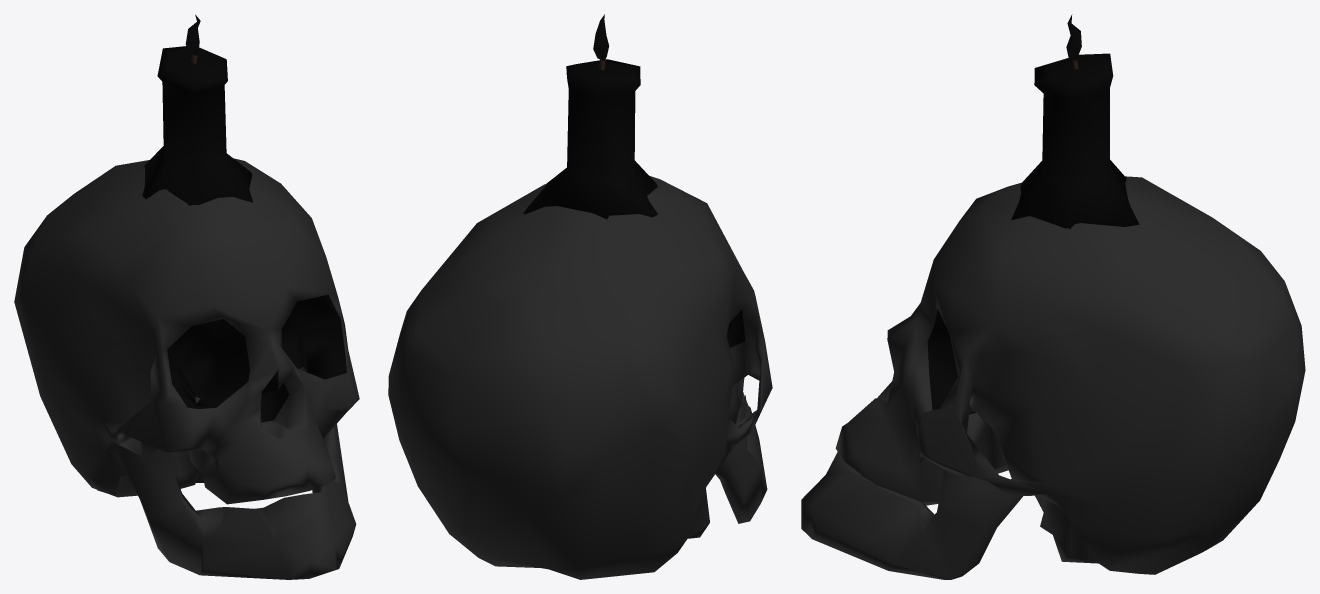
Rendered from CandleSkullShapeB.021.glb.
The picture shows the model from 3 angles, left to right: view 1: azimuth 30°, elevation 25°; view 2: azimuth 150°, elevation 25°; view 3: azimuth 270°, elevation 25°; orthographic projection. The views are drawn at different scales.
Visible parts, largest first — view 1: CandleSkullShapeB.021; view 2: CandleSkullShapeB.021; view 3: CandleSkullShapeB.021.
Part boxes in pixels (box(x1,y1,x2,y2)): CandleSkullShapeB.021: box(14, 14, 359, 579); CandleSkullShapeB.021: box(388, 14, 772, 579); CandleSkullShapeB.021: box(801, 14, 1305, 579).
Bounding box in the file's own units: 0.2005 × 0.3649 × 0.3132.
2 materials, 2 textured.
